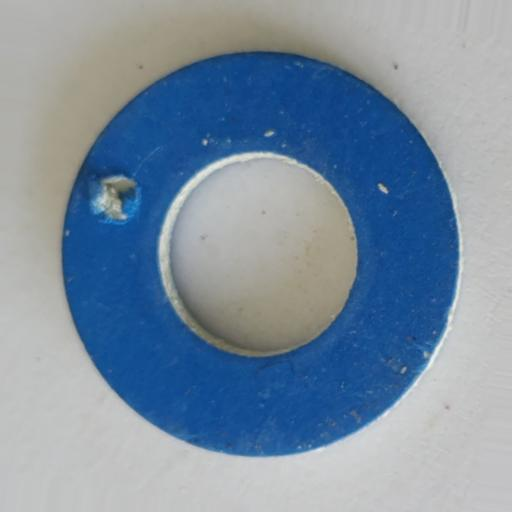defect: (88, 170, 142, 226)
